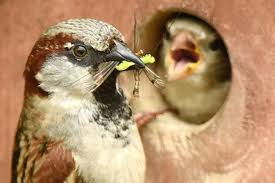hsparrow: (8, 15, 167, 183)
